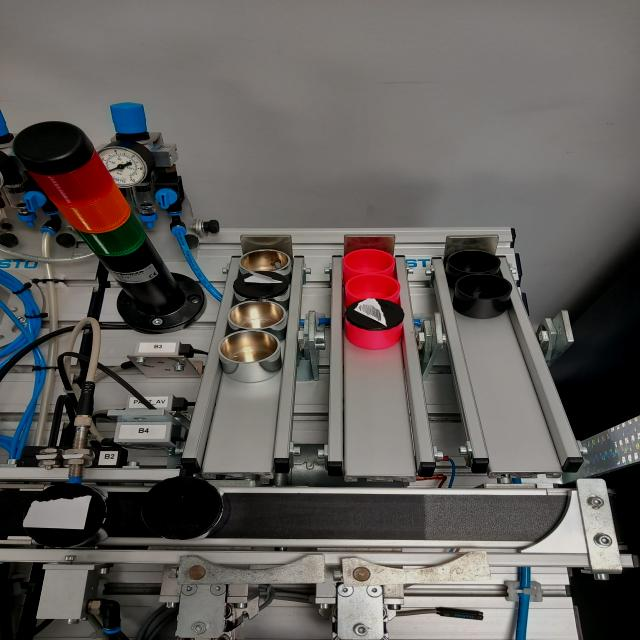NoLid: (216, 331, 282, 381), (448, 275, 514, 319), (224, 300, 290, 331), (341, 248, 402, 277), (348, 276, 408, 302), (234, 248, 295, 273), (449, 252, 502, 271)
Workpiece: (131, 476, 236, 544)
